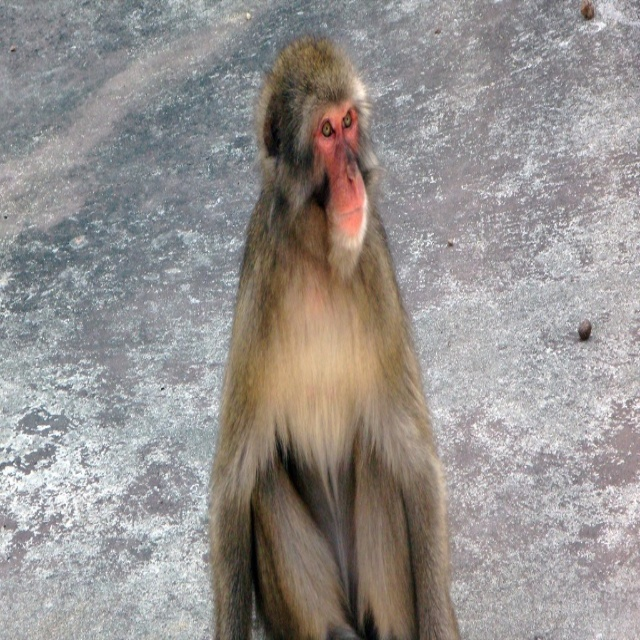Monkey: (205, 32, 461, 640)
